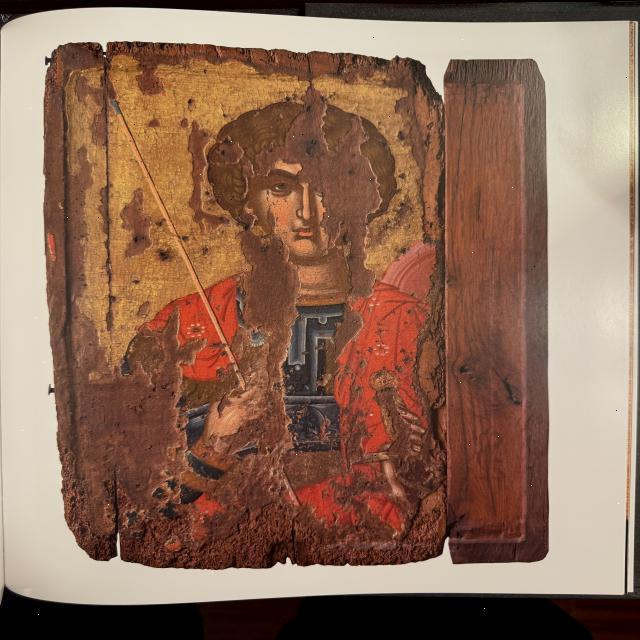spear: (97, 75, 311, 517)
